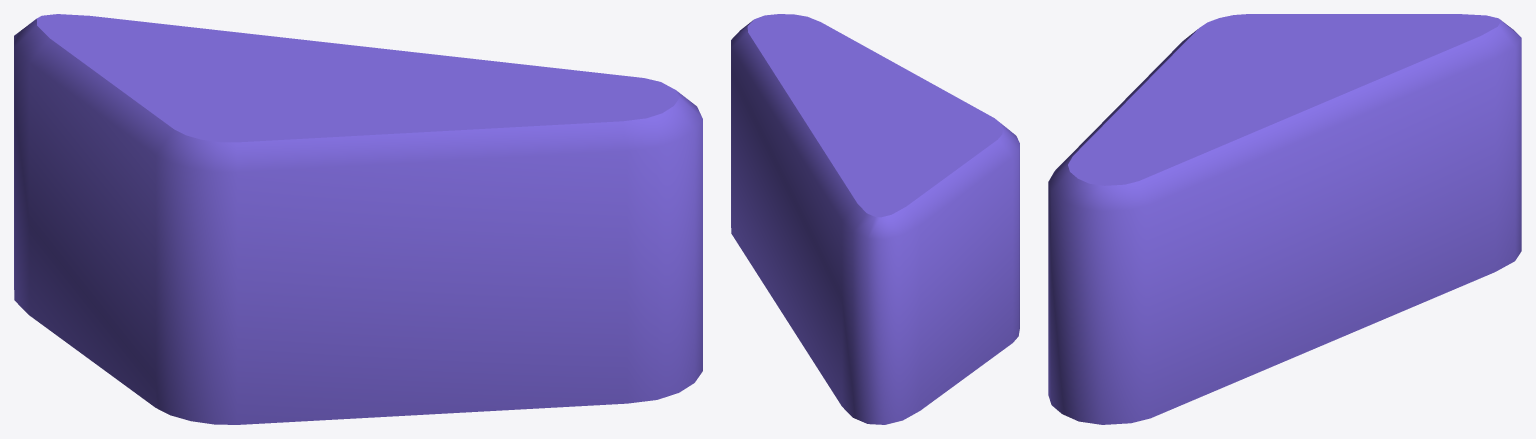
The model's file is Pinball_Triangle_Small_L.fbx.
3 renders of one model, left to right at view 1: azimuth 30°, elevation 25°; view 2: azimuth 150°, elevation 25°; view 3: azimuth 270°, elevation 25°, orthographic. The views are drawn at different scales.
Visible parts, largest first — view 1: Pinball_Triangle_Small_L; view 2: Pinball_Triangle_Small_L; view 3: Pinball_Triangle_Small_L.
Part boxes in pixels (<box>): Pinball_Triangle_Small_L: <box>14,14,702,424</box>; Pinball_Triangle_Small_L: <box>731,14,1019,424</box>; Pinball_Triangle_Small_L: <box>1048,14,1521,424</box>.
Size of the model in its own units: 69.96 by 40 by 74.31.
